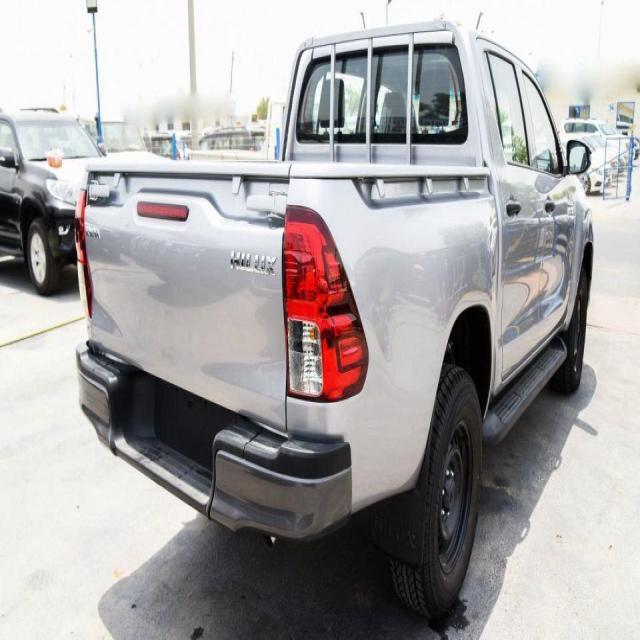light_vehicle: (64, 13, 596, 633)
